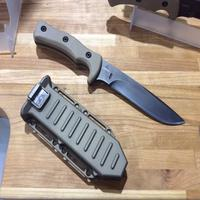knife: (26, 14, 186, 125)
